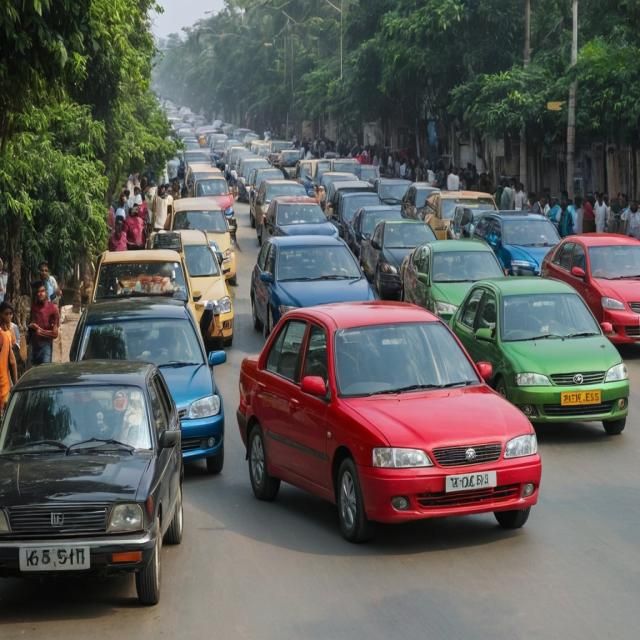black: (0, 349, 192, 625), (362, 217, 440, 297)
blue: (61, 300, 223, 473), (249, 233, 389, 342), (475, 205, 565, 276)
green: (454, 279, 630, 444), (404, 245, 503, 332)
red: (248, 306, 549, 552), (549, 229, 640, 348)
